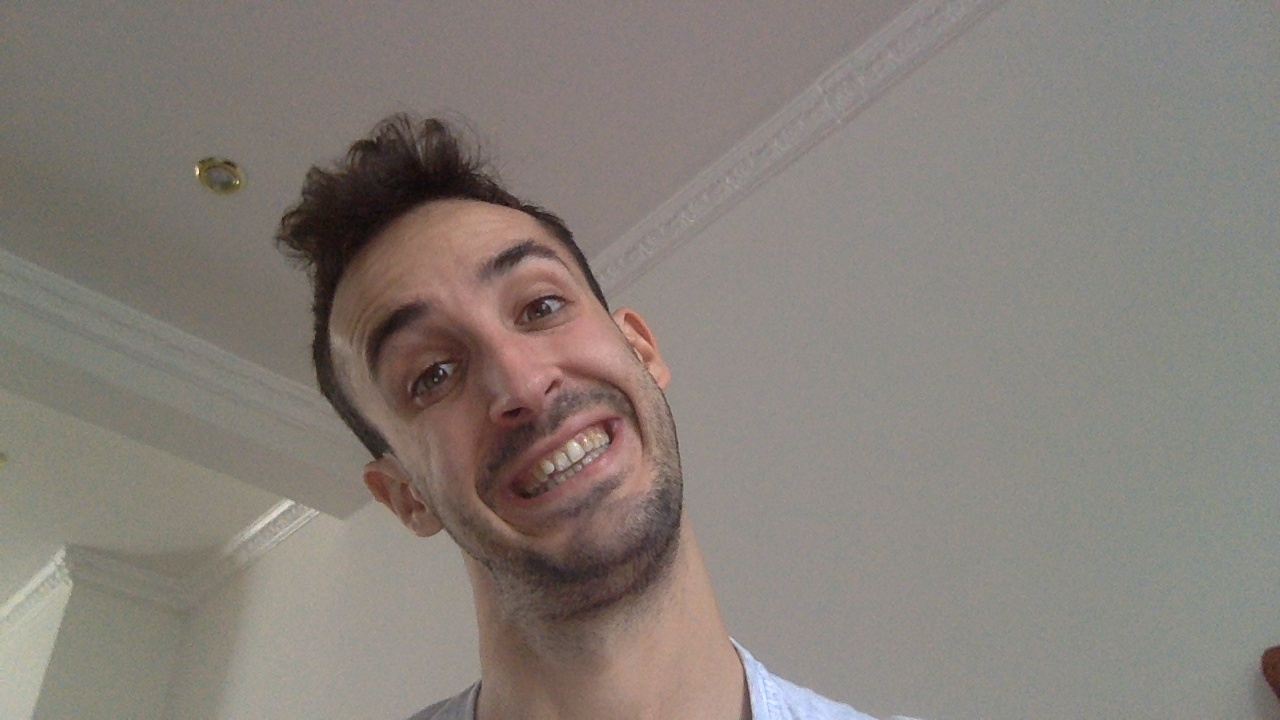smile: (499, 406, 622, 513)
